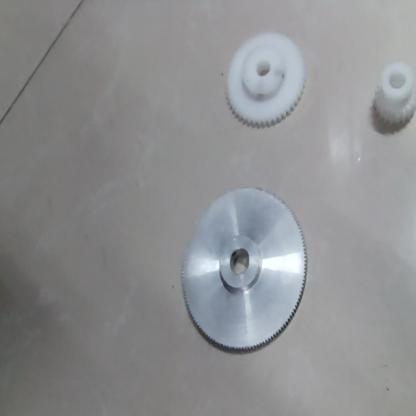FOD: (163, 188, 328, 354), (221, 29, 309, 134), (366, 52, 416, 133)
